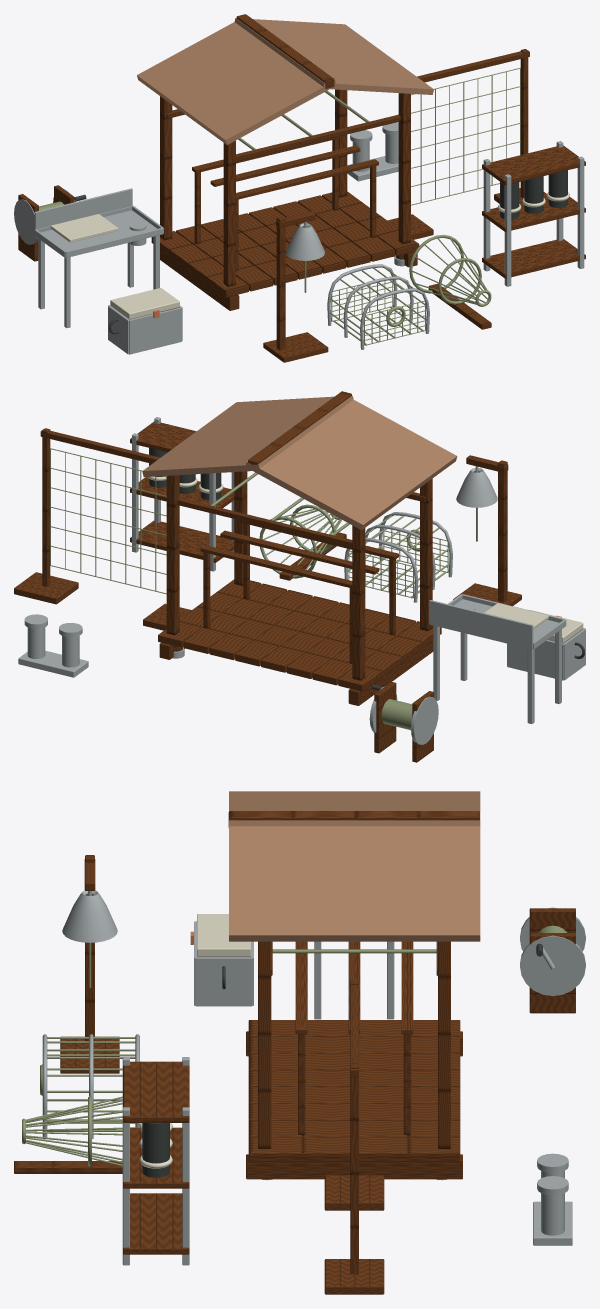
The model's file is flooded-and-coastal-survival-shoreline-equipment-stati-88da8531__20100.glb.
The picture shows the model from 3 angles, top to bottom: view 1: azimuth 30°, elevation 25°; view 2: azimuth 150°, elevation 25°; view 3: azimuth 270°, elevation 25°; orthographic projection. The views are drawn at different scales.
Parts seen in each view (by area): view 1: 000-drying-shelter/0, 000-drying-shelter/2, 001-fish-cleaning-table/0, 004-fender-storage-rack/1, 007-shoreline-fog-bell/0, 004-fender-storage-rack/0, 002-insulated-catch-box/0, 005-crab-pot/1, 003-net-mending-frame/0, 003-net-mending-frame/1, 006-fyke-funnel-trap/0, 004-fender-storage-rack/2 (+8 smaller); view 2: 000-drying-shelter/0, 000-drying-shelter/2, 001-fish-cleaning-table/0, 003-net-mending-frame/0, 004-fender-storage-rack/1, 003-net-mending-frame/1, 009-twin-mooring-bollard/0, 007-shoreline-fog-bell/0, 002-insulated-catch-box/0, 005-crab-pot/1, 004-fender-storage-rack/0, 008-crossing-handline-reel/0 (+7 smaller); view 3: 000-drying-shelter/0, 000-drying-shelter/2, 004-fender-storage-rack/1, 003-net-mending-frame/0, 008-crossing-handline-reel/2, 002-insulated-catch-box/0, 009-twin-mooring-bollard/0, 007-shoreline-fog-bell/0, 006-fyke-funnel-trap/0, 005-crab-pot/1, 004-fender-storage-rack/0, 008-crossing-handline-reel/0 (+7 smaller).
Boxes of the visible parts, x1=… form: 000-drying-shelter/0: x1=151, y1=14, x2=419, y2=310; 000-drying-shelter/2: x1=137, y1=18, x2=433, y2=144; 001-fish-cleaning-table/0: x1=34, y1=188, x2=163, y2=328; 004-fender-storage-rack/1: x1=482, y1=145, x2=585, y2=278; 007-shoreline-fog-bell/0: x1=263, y1=211, x2=328, y2=362; 004-fender-storage-rack/0: x1=483, y1=141, x2=584, y2=286; 002-insulated-catch-box/0: x1=108, y1=305, x2=182, y2=354; 005-crab-pot/1: x1=330, y1=267, x2=426, y2=345; 003-net-mending-frame/0: x1=387, y1=49, x2=546, y2=239; 003-net-mending-frame/1: x1=411, y1=67, x2=520, y2=205; 006-fyke-funnel-trap/0: x1=409, y1=234, x2=491, y2=306; 004-fender-storage-rack/2: x1=500, y1=170, x2=567, y2=219; 000-drying-shelter/0: x1=158, y1=391, x2=441, y2=705; 000-drying-shelter/2: x1=142, y1=395, x2=457, y2=530; 001-fish-cleaning-table/0: x1=429, y1=594, x2=566, y2=723; 003-net-mending-frame/0: x1=14, y1=428, x2=191, y2=630; 004-fender-storage-rack/1: x1=130, y1=421, x2=234, y2=562; 003-net-mending-frame/1: x1=50, y1=448, x2=166, y2=594; 009-twin-mooring-bollard/0: x1=18, y1=614, x2=88, y2=677; 007-shoreline-fog-bell/0: x1=453, y1=455, x2=521, y2=605; 002-insulated-catch-box/0: x1=507, y1=628, x2=585, y2=680; 005-crab-pot/1: x1=348, y1=515, x2=450, y2=598; 004-fender-storage-rack/0: x1=132, y1=417, x2=234, y2=571; 008-crossing-handline-reel/0: x1=374, y1=682, x2=433, y2=762; 000-drying-shelter/0: x1=228, y1=811, x2=479, y2=1179; 000-drying-shelter/2: x1=229, y1=791, x2=480, y2=941; 004-fender-storage-rack/1: x1=123, y1=1061, x2=189, y2=1254; 003-net-mending-frame/0: x1=324, y1=980, x2=384, y2=1294; 008-crossing-handline-reel/2: x1=520, y1=907, x2=585, y2=995; 002-insulated-catch-box/0: x1=194, y1=921, x2=253, y2=1006; 009-twin-mooring-bollard/0: x1=533, y1=1153, x2=572, y2=1245; 007-shoreline-fog-bell/0: x1=60, y1=855, x2=119, y2=1073; 006-fyke-funnel-trap/0: x1=22, y1=1096, x2=139, y2=1166; 005-crab-pot/1: x1=40, y1=1037, x2=135, y2=1131; 004-fender-storage-rack/0: x1=122, y1=1057, x2=189, y2=1265; 008-crossing-handline-reel/0: x1=529, y1=908, x2=575, y2=1013.
Size of the model in its own units: 6.11 by 2.52 by 4.33.
Materials: 7 (1 with a texture image).
